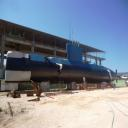submarine: (5, 29, 121, 84)
